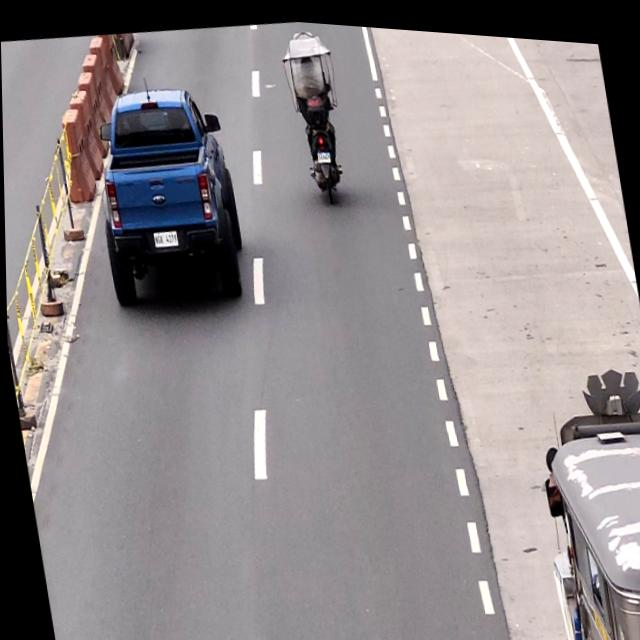Car: (84, 77, 252, 327)
Jeep: (534, 353, 640, 640)
License-Plate: (150, 227, 180, 249), (316, 145, 334, 161)
Motorcycle: (283, 19, 349, 199)
